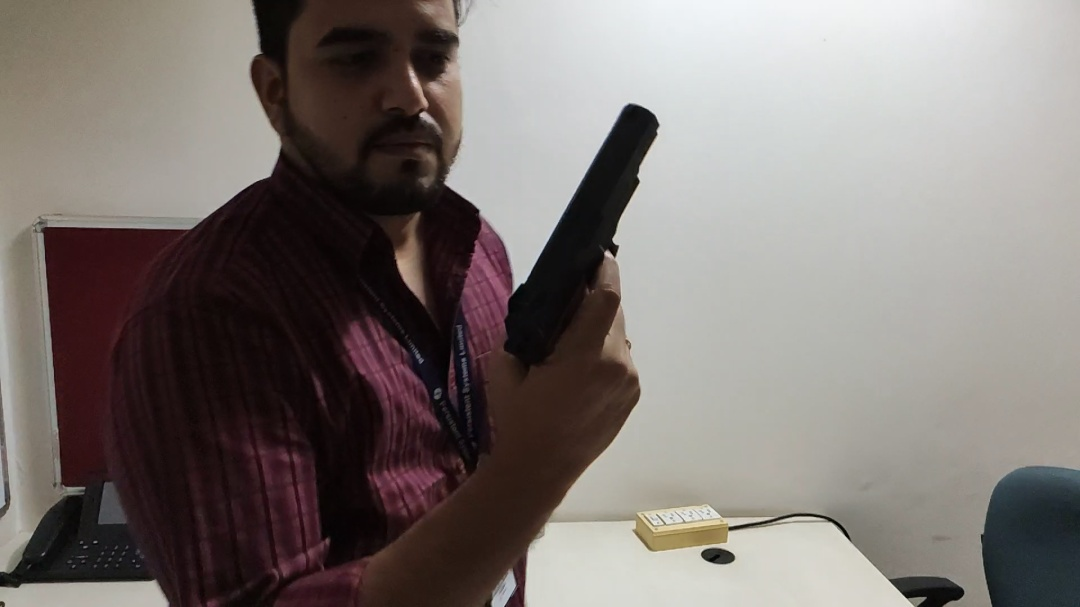gun: (494, 90, 680, 401)
